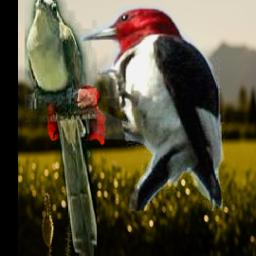Cuckoo: (25, 0, 97, 256)
Woodpecker: (77, 7, 226, 212)
